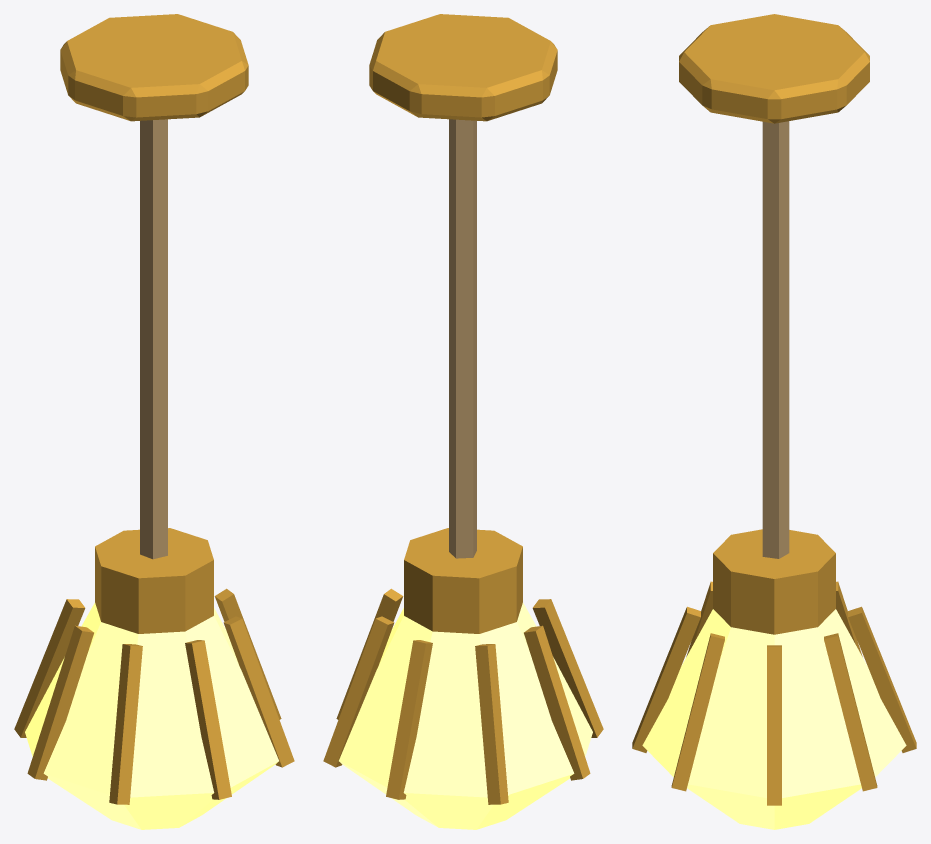
The model's file is ceiling_pendant.glb.
The picture shows the model from 3 angles, left to right: view 1: azimuth 30°, elevation 25°; view 2: azimuth 150°, elevation 25°; view 3: azimuth 270°, elevation 25°; orthographic projection.
Parts seen in each view (by area): view 1: ceiling_pendant; view 2: ceiling_pendant; view 3: ceiling_pendant.
Part boxes in pixels (x1,y1,x2,y2): ceiling_pendant: (14, 14, 294, 829); ceiling_pendant: (323, 14, 603, 829); ceiling_pendant: (632, 14, 916, 829).
Size of the model in its own units: 0.2313 by 0.68 by 0.2313.
